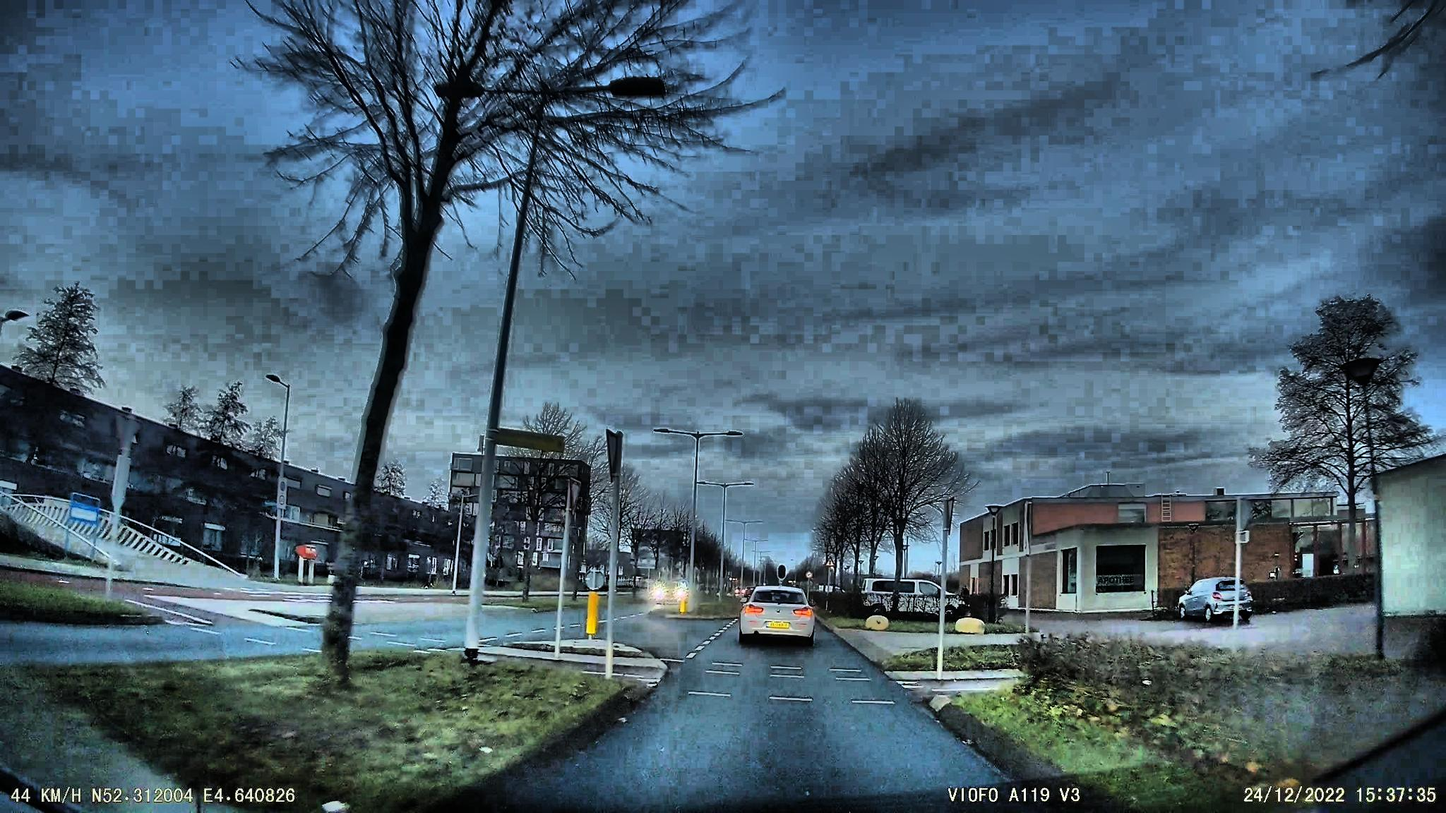Roads: (448, 617, 1078, 813)
